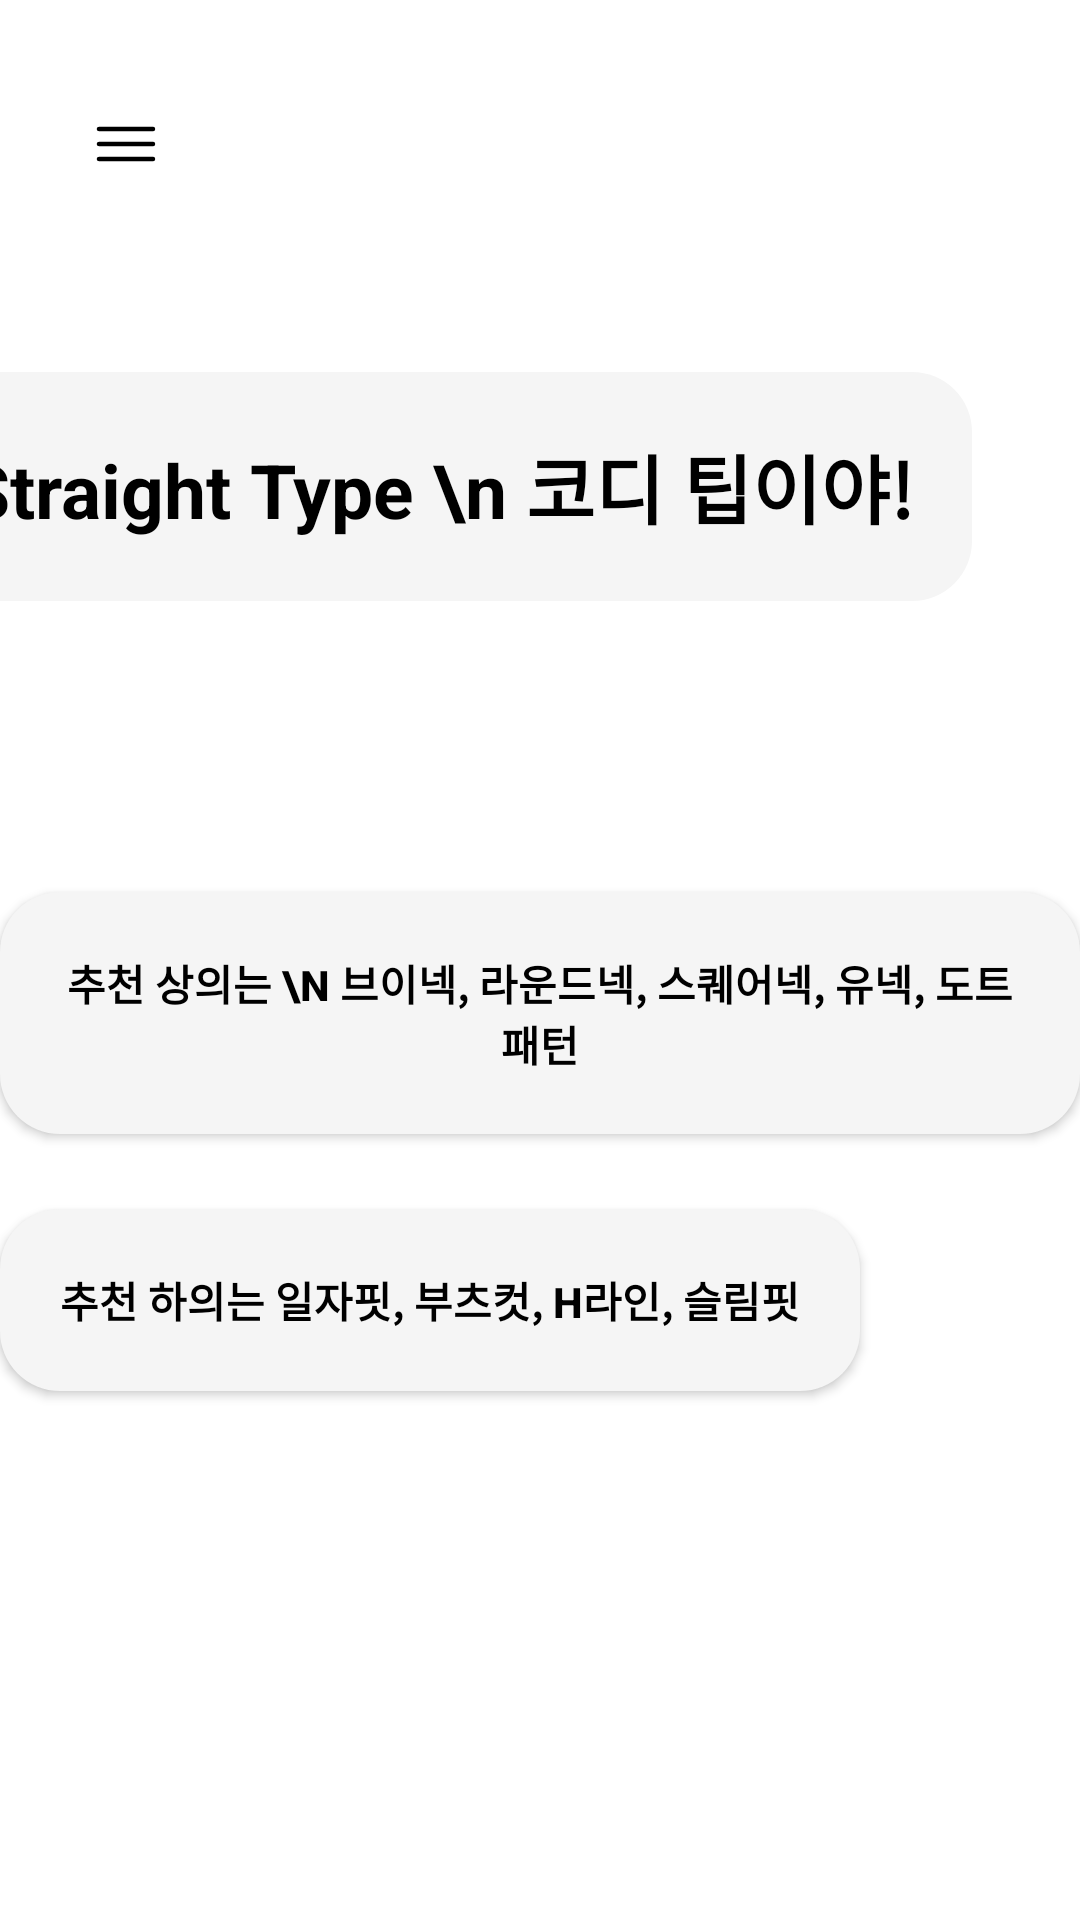

Icon bounding boxes for this 1080w x 1920h phone screenshot, format (x1, y1, x2, y2):
hamburger menu: (96, 126, 155, 162)
